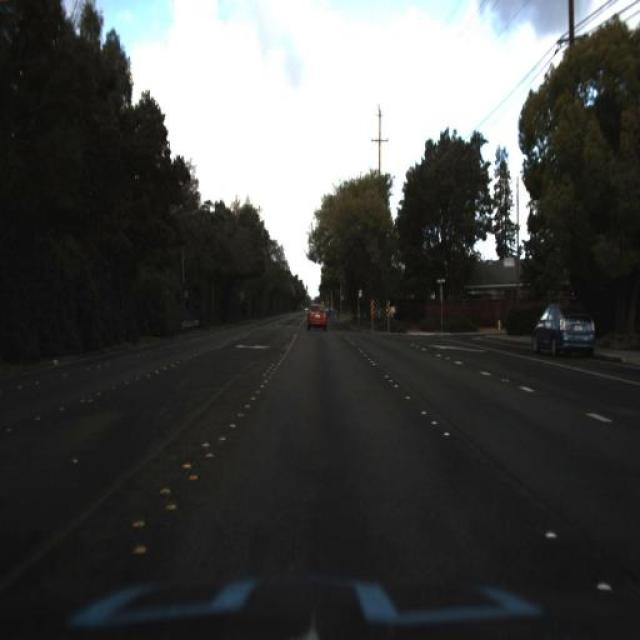car: (526, 296, 596, 358), (302, 296, 330, 342)
